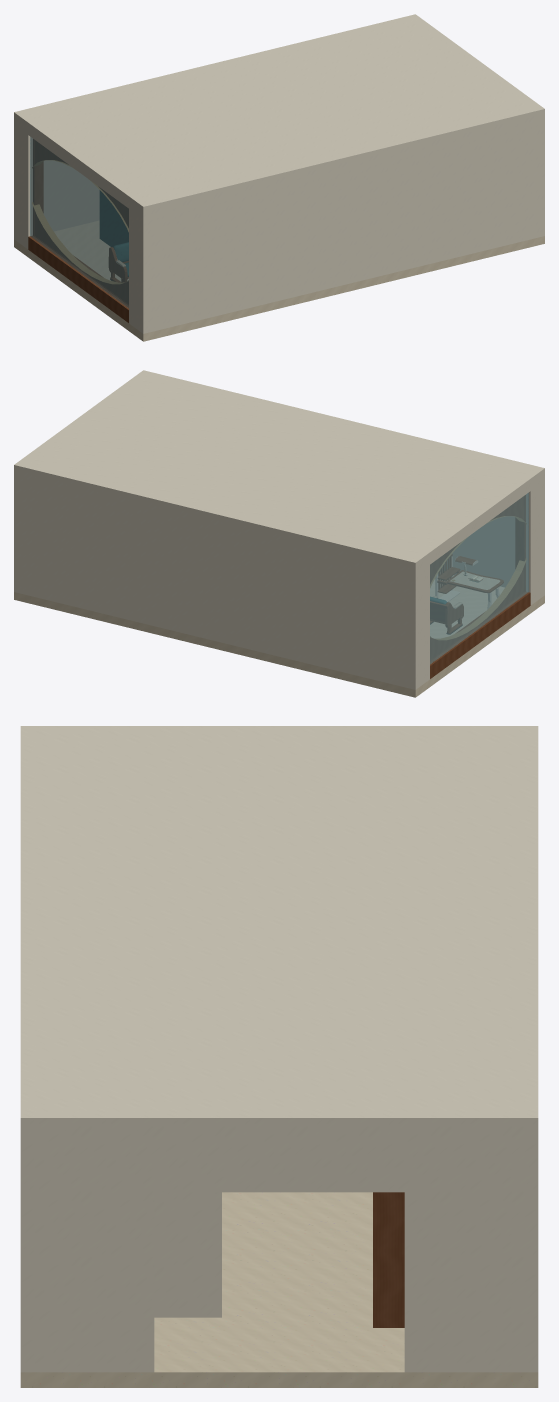
The model's file is QuietGroveBank_367_r001.glb.
The picture shows the model from 3 angles, top to bottom: view 1: azimuth 30°, elevation 25°; view 2: azimuth 150°, elevation 25°; view 3: azimuth 270°, elevation 25°; orthographic projection. The views are drawn at different scales.
Visible parts, largest first — view 1: QG367_Ceiling, QG367_SouthSide, QGB367_PrivateCourtGlass, QG367_RoomFloor, QG367_NorthSide, QGB367_CourtNorthPier, QGB367_CourtSouthPier, QGB367_CourtSill, QG367_OvalWindowReveal, QG367_Cocoon_RearLiner, QG367_OvalDepthReturn, QGB367_CourtHeader (+1 smaller); view 2: QG367_Ceiling, QG367_NorthSide, QGB367_PrivateCourtGlass, QG367_RoomFloor, QG367_SouthSide, QGB367_CourtSouthPier, QGB367_CourtNorthPier, QGB367_CourtSill, QG367_OvalWindowReveal, QG367_OvalDepthReturn, QGB367_CourtHeader, QGB367_DeepReveal_-468.40000000000003 (+1 smaller); view 3: QG367_Ceiling, QG367_RoomFloor, QG367_EntryShoulderNorth, QG367_EntryShoulderSouth, QG367_EntryHeader, QG367_WashEntrySide, QG367_EntryPrivacyDogleg, QG367_NorthSide, QG367_SouthSide.
Part boxes in pixels (box(x1,y1,x2,y2)): QG367_Ceiling: box(14, 14, 544, 211); QG367_SouthSide: box(141, 114, 544, 333); QGB367_PrivateCourtGlass: box(30, 136, 128, 308); QG367_RoomFloor: box(14, 221, 544, 341); QG367_NorthSide: box(14, 117, 99, 239); QGB367_CourtNorthPier: box(14, 118, 32, 249); QGB367_CourtSouthPier: box(129, 202, 150, 332); QGB367_CourtSill: box(28, 236, 128, 322); QG367_OvalWindowReveal: box(35, 140, 128, 304); QG367_Cocoon_RearLiner: box(101, 192, 128, 246); QG367_OvalDepthReturn: box(32, 160, 128, 283); QGB367_CourtHeader: box(28, 128, 128, 208); QG367_Ceiling: box(14, 370, 544, 567); QG367_NorthSide: box(14, 470, 417, 689); QGB367_PrivateCourtGlass: box(430, 492, 528, 664); QG367_RoomFloor: box(14, 575, 544, 697); QG367_SouthSide: box(447, 473, 544, 595); QGB367_CourtSouthPier: box(526, 474, 544, 605); QGB367_CourtNorthPier: box(408, 558, 429, 689); QGB367_CourtSill: box(430, 592, 530, 678); QG367_OvalWindowReveal: box(430, 496, 523, 660); QG367_OvalDepthReturn: box(430, 516, 526, 639); QGB367_CourtHeader: box(430, 484, 530, 564); QGB367_DeepReveal_-468.40000000000003: box(515, 495, 525, 591); QG367_Ceiling: box(20, 726, 538, 1128); QG367_RoomFloor: box(20, 1192, 538, 1387); QG367_EntryShoulderNorth: box(404, 1128, 529, 1372); QG367_EntryShoulderSouth: box(29, 1128, 154, 1372); QG367_EntryHeader: box(150, 1128, 408, 1192); QG367_WashEntrySide: box(154, 1192, 221, 1317); QG367_EntryPrivacyDogleg: box(373, 1192, 404, 1327); QG367_NorthSide: box(529, 1128, 538, 1372); QG367_SouthSide: box(20, 1128, 29, 1372).
Size of the model in its own units: 12.9 by 4.14 by 7.2.
Materials: 58 (43 with a texture image).
